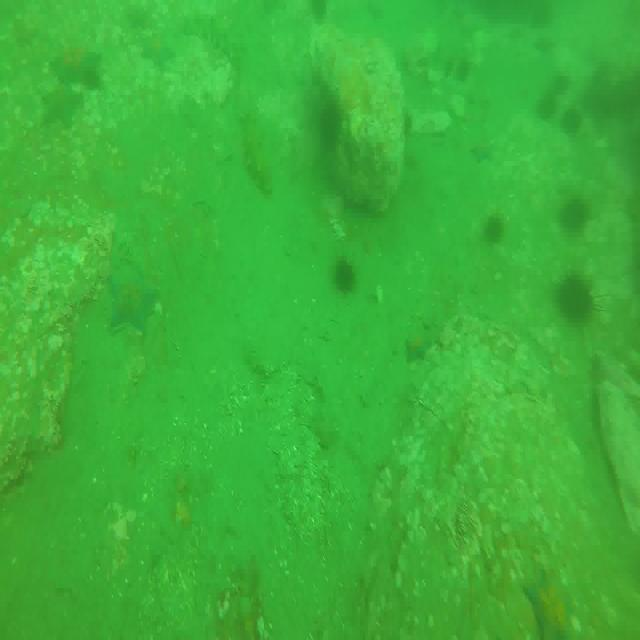echinus: (555, 271, 597, 328), (559, 192, 591, 234), (318, 98, 346, 142), (332, 262, 360, 290), (484, 214, 508, 246), (562, 107, 583, 138), (538, 91, 560, 119), (399, 107, 414, 138), (552, 73, 569, 96)
holothurian: (238, 122, 273, 196)
starfish: (523, 567, 575, 640), (108, 259, 158, 332), (51, 43, 104, 96), (39, 84, 83, 130), (469, 136, 499, 168), (406, 330, 434, 364)
